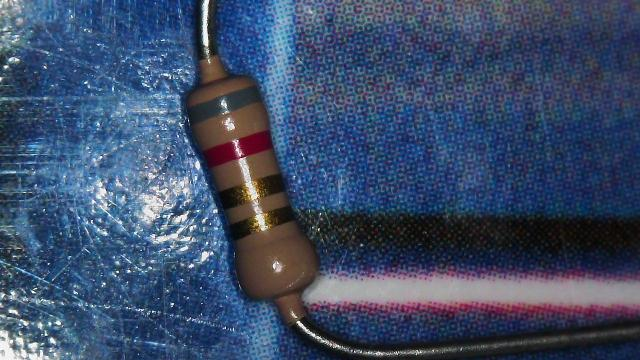gold: (217, 173, 285, 209), (228, 206, 294, 240)
grey: (186, 86, 262, 124)
red: (202, 131, 272, 168)
resistor: (147, 41, 345, 334)
